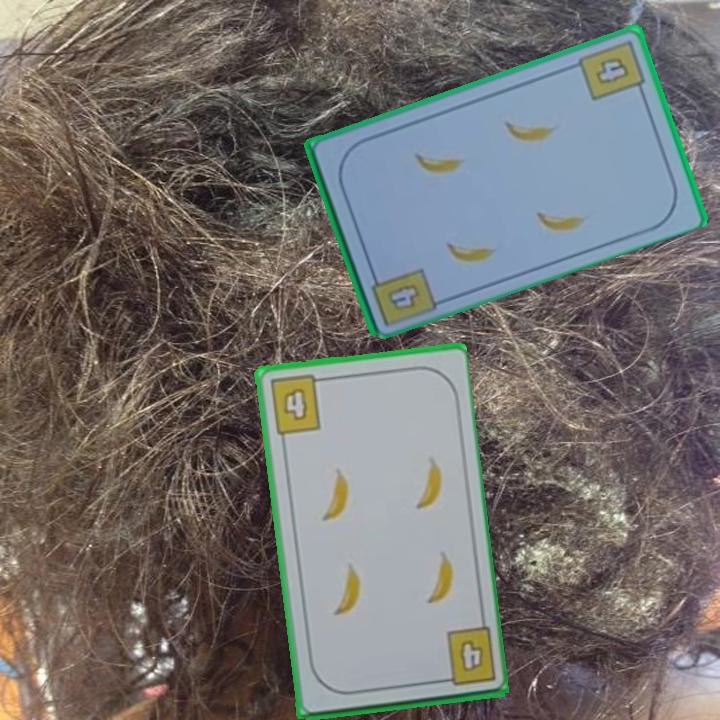4b: (575, 36, 648, 104), (433, 624, 498, 689), (266, 372, 328, 438), (383, 279, 424, 313)
